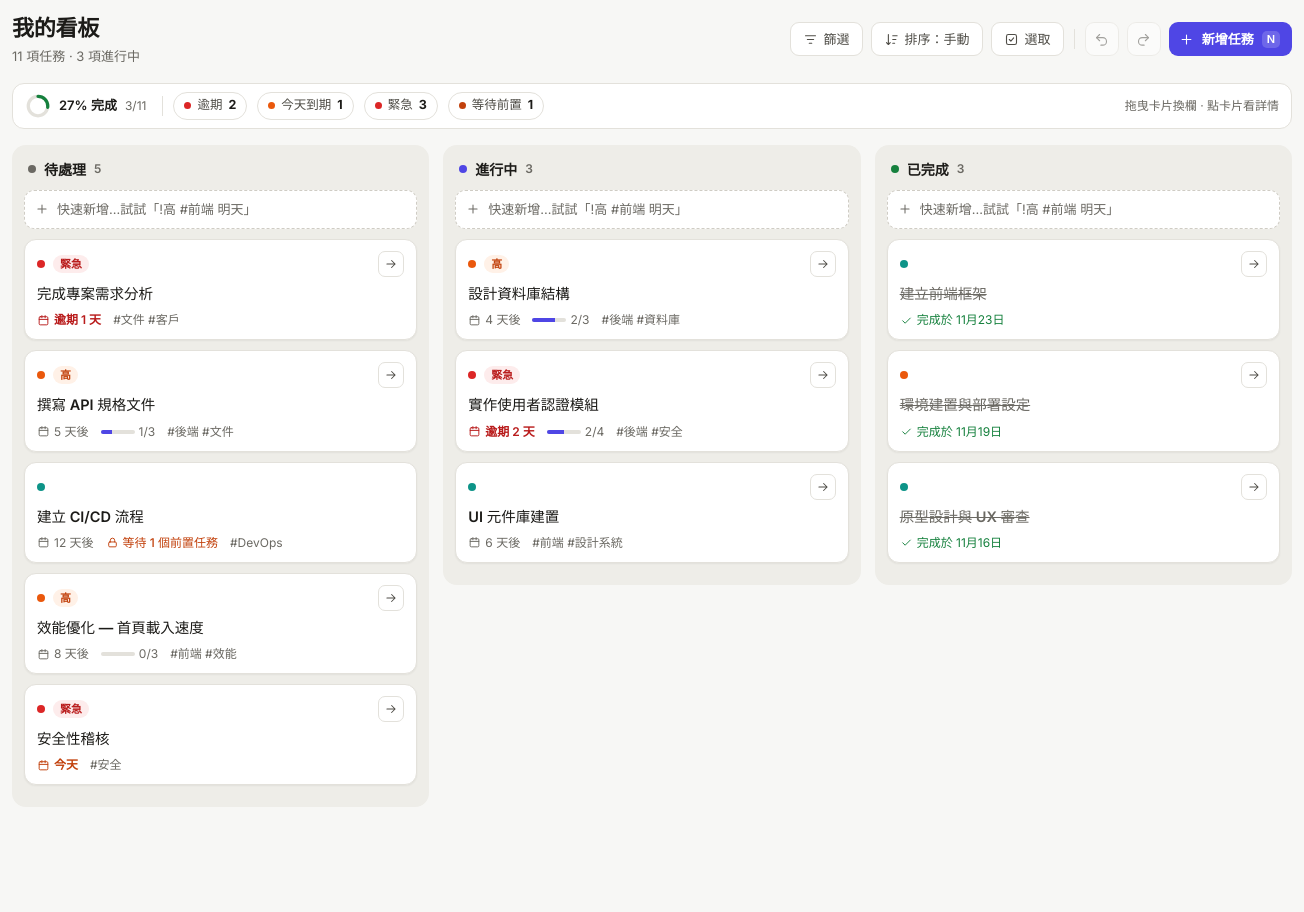
BoardView › a chip filter that leaves a column empty says 「沒有符合篩選的任務」
Click the button "逾期 2". click: [210, 106]
box: x1=173 y1=92 x2=247 y2=120
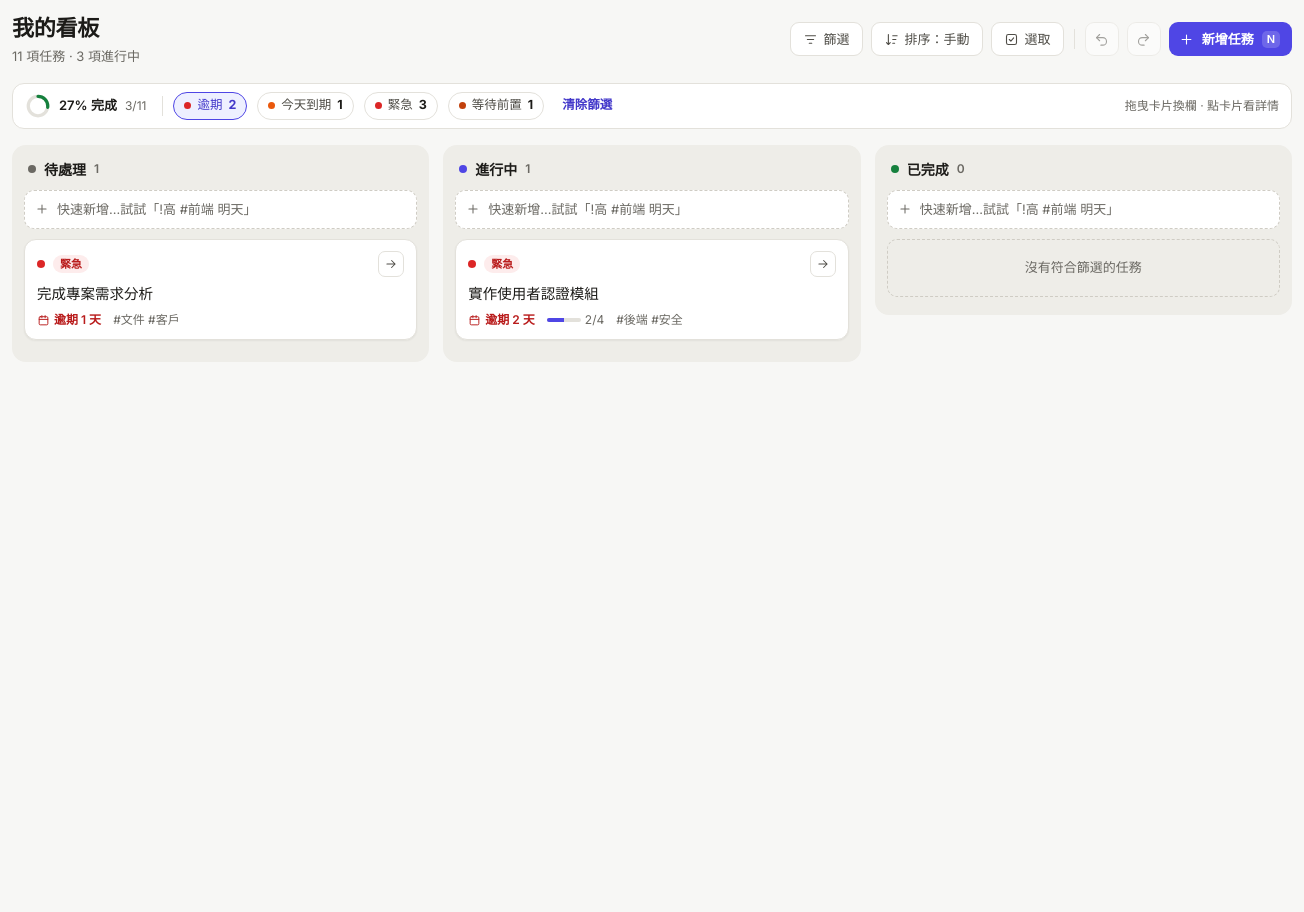
Expected: the text "沒有符合篩選的任務" is shown, x1=887 y1=239 x2=1280 y2=296
Expected: the button "撰寫 API 規格文件" is gone
